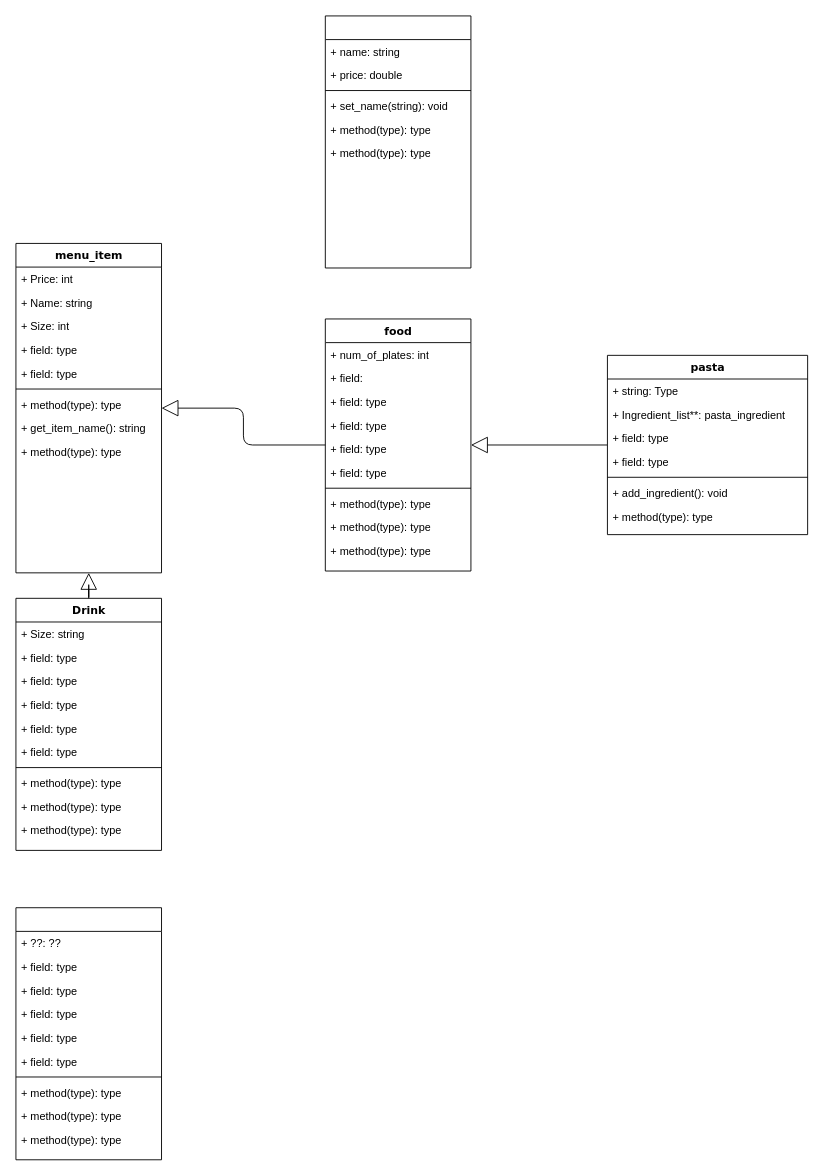
This 824x1176 diagram has some shape labels left out. The box of each missing label's shape, as (x1, y1, x2, y2) in pixels:
ingredient_list: (324, 15, 471, 268)
Soft Drink: (15, 907, 162, 1160)
